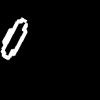chain: (1, 18, 27, 59)
